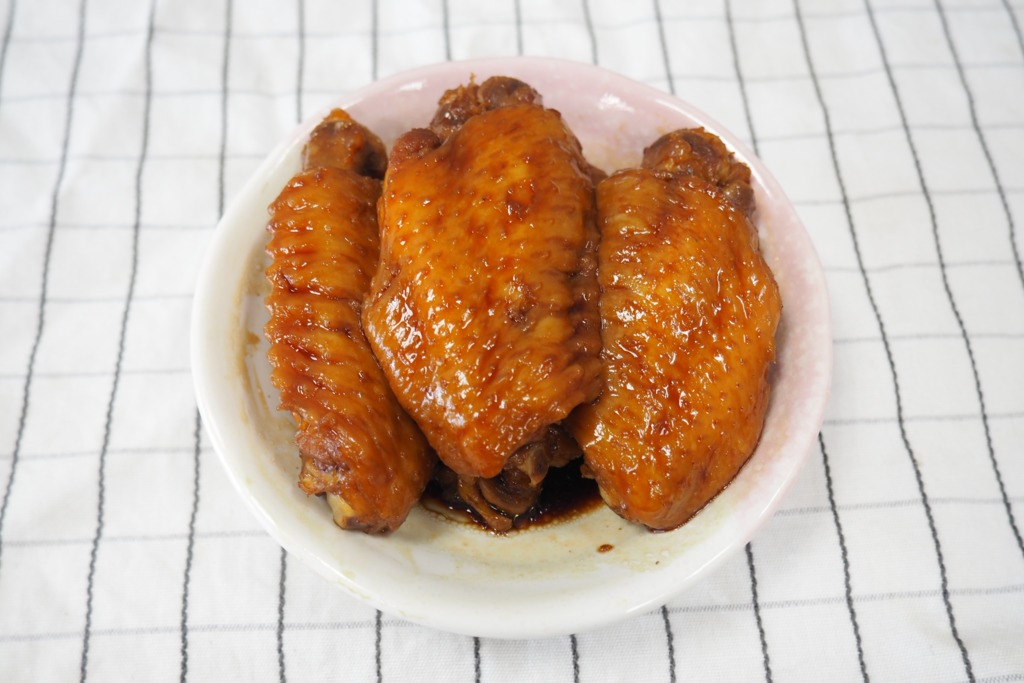chicken-wing: (267, 81, 780, 529)
